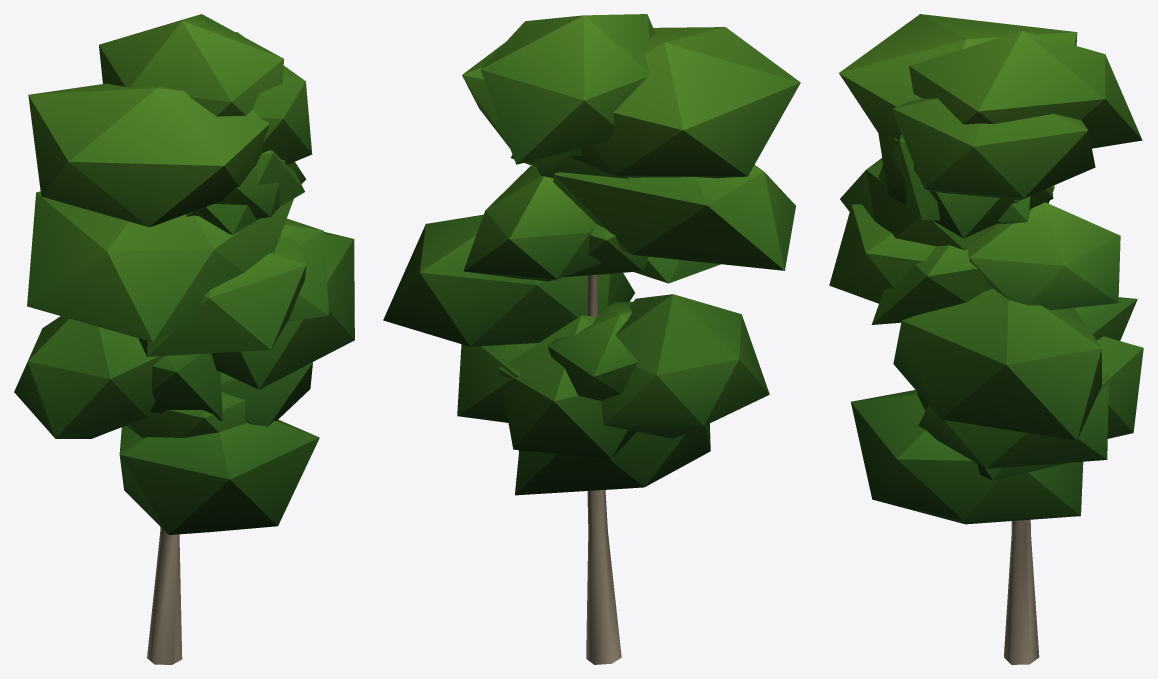
File: red-alder-b-distant.glb
The picture shows the model from 3 angles, left to right: view 1: azimuth 30°, elevation 25°; view 2: azimuth 150°, elevation 25°; view 3: azimuth 270°, elevation 25°; orthographic projection.
Parts seen in each view (by area): view 1: red-alder-b-distant.Leaves, red-alder-b-distant.Bark; view 2: red-alder-b-distant.Leaves, red-alder-b-distant.Bark; view 3: red-alder-b-distant.Leaves, red-alder-b-distant.Bark.
Boxes of the visible parts, left/top/right/bottom form: red-alder-b-distant.Leaves: left=14, top=14, right=354, bottom=534; red-alder-b-distant.Bark: left=147, top=527, right=182, bottom=664; red-alder-b-distant.Leaves: left=383, top=14, right=800, bottom=495; red-alder-b-distant.Bark: left=586, top=274, right=621, bottom=664; red-alder-b-distant.Leaves: left=829, top=14, right=1143, bottom=524; red-alder-b-distant.Bark: left=1004, top=519, right=1039, bottom=664.
Bounding box in the file's own units: 7.5 × 13.01 × 5.83.
